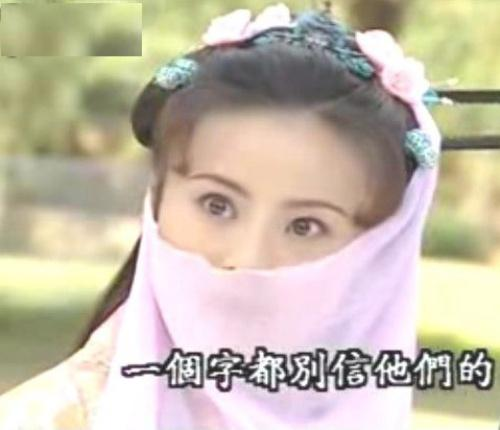WRONG: (161, 167, 353, 359)
